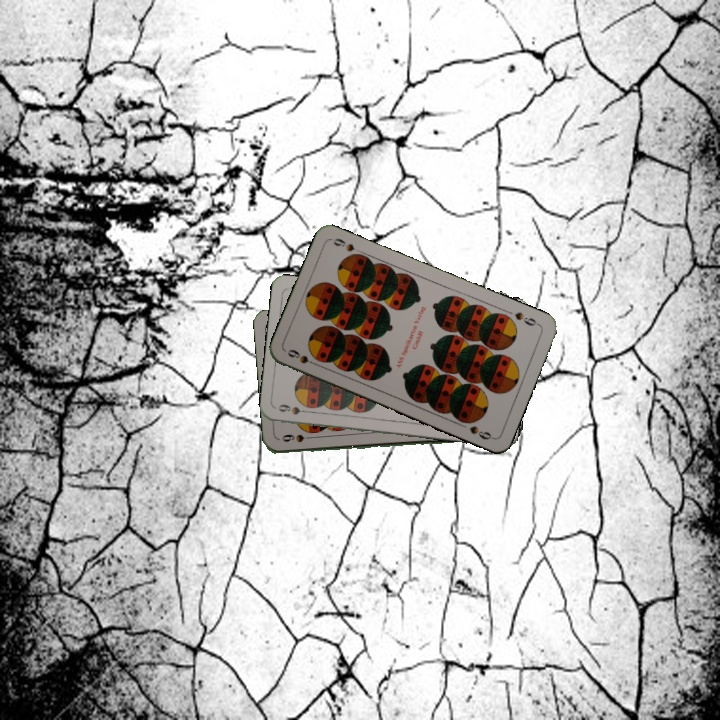S9: (283, 345, 322, 369), (274, 400, 315, 417), (511, 308, 542, 328), (278, 431, 318, 444)
